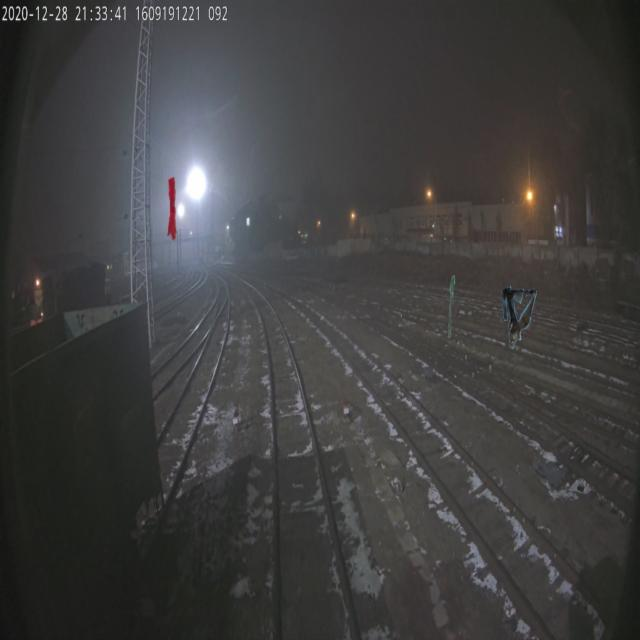floating object: (500, 285, 537, 349), (167, 177, 177, 240), (448, 274, 455, 338)
